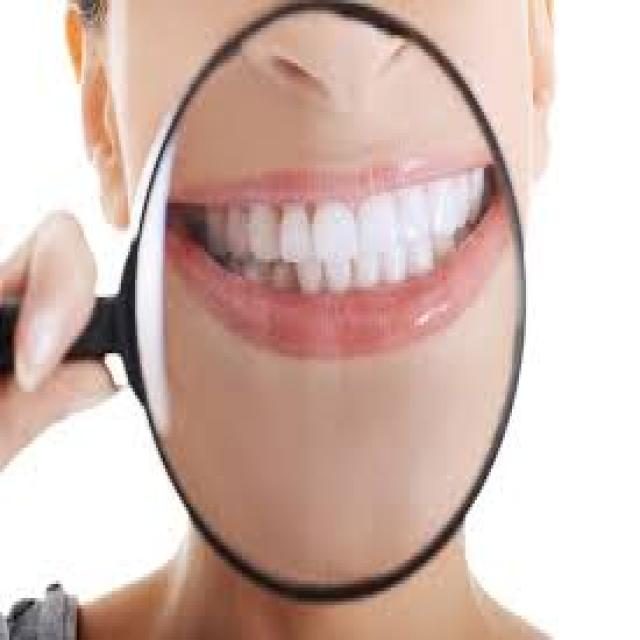tooth: (233, 210, 277, 269), (405, 192, 442, 259), (363, 192, 398, 259), (444, 178, 494, 217), (202, 203, 233, 259), (281, 203, 312, 259), (314, 213, 358, 252), (328, 255, 356, 294), (298, 262, 326, 298), (391, 259, 433, 280), (363, 256, 386, 290)
